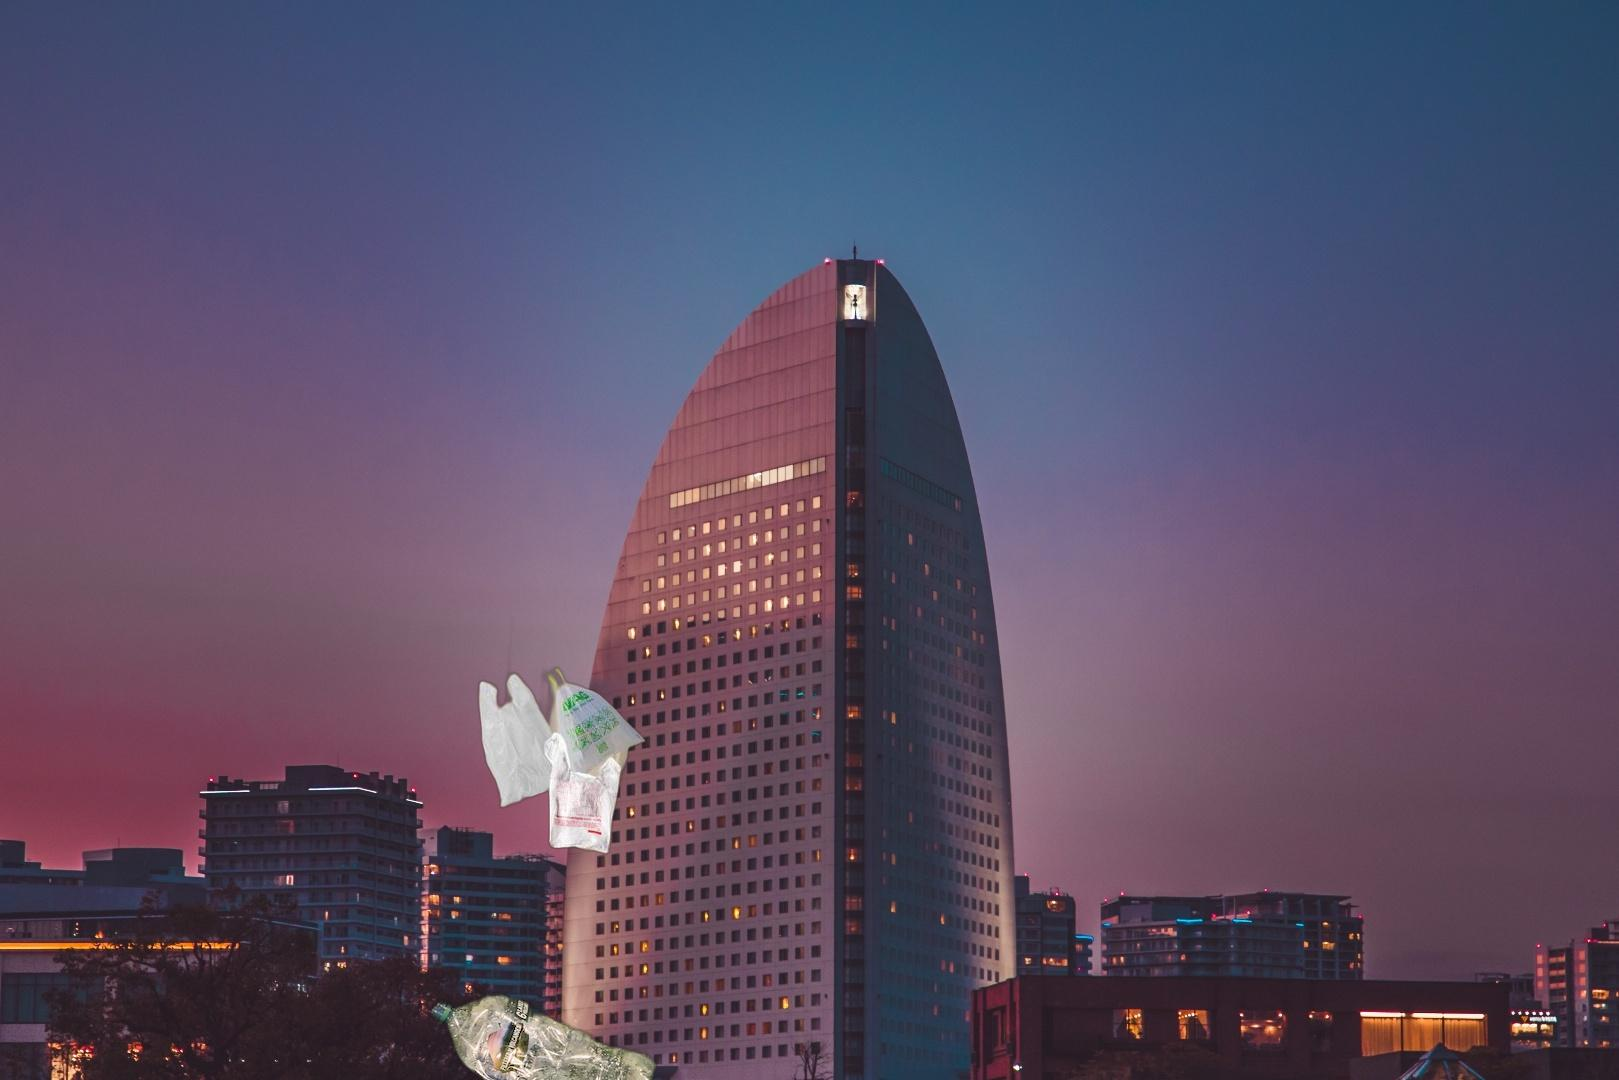plastic-bag: (475, 616, 649, 856)
plastic-bottles: (426, 990, 661, 1080)
